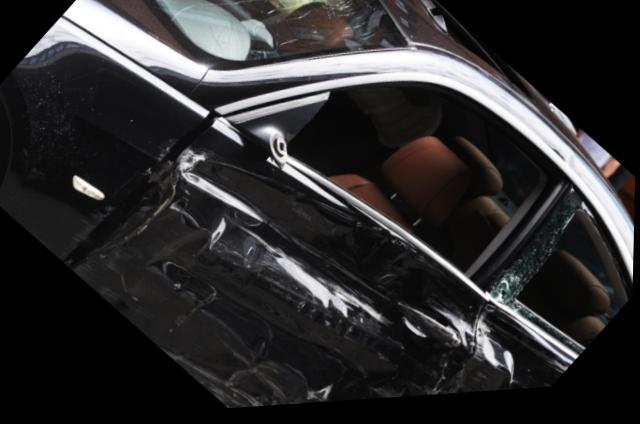dent: (81, 153, 485, 412)
glass shatter: (145, 0, 409, 70)
